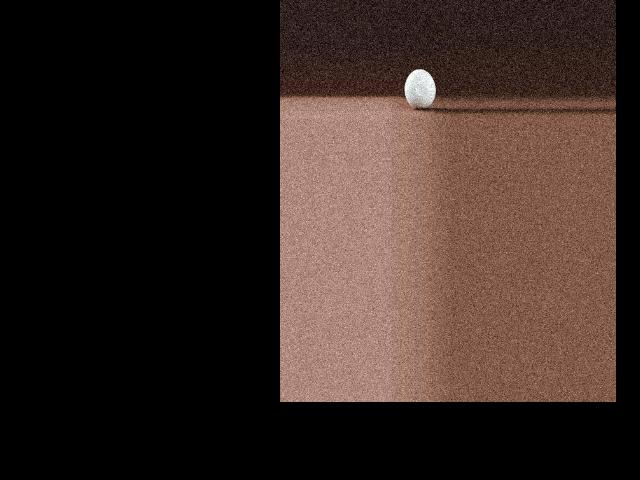egg: (404, 68, 435, 109)
